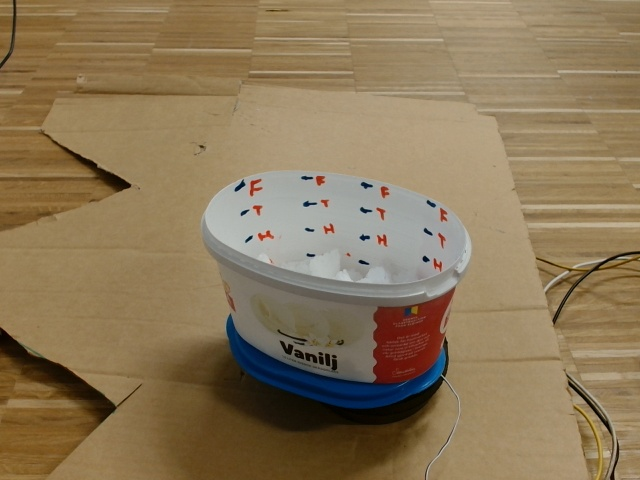Big_quarter: (202, 169, 474, 303)
